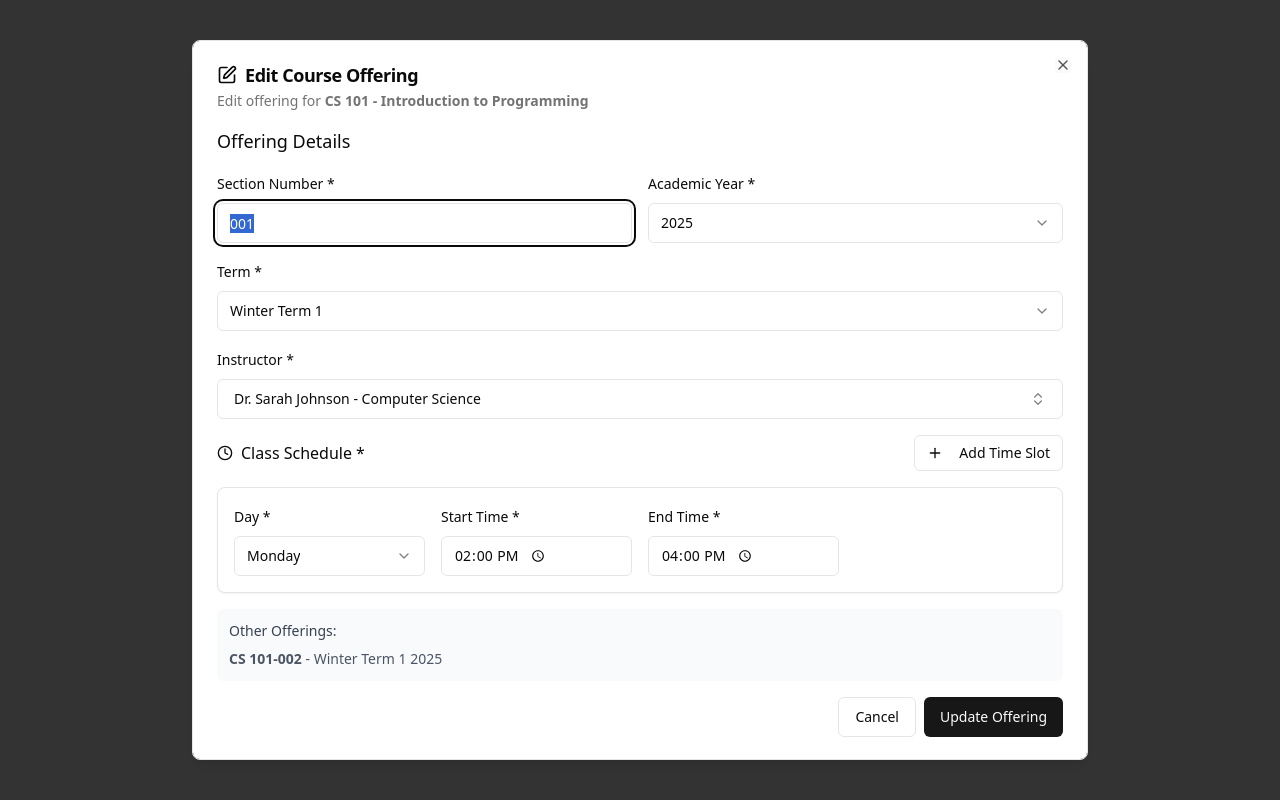
EditOfferingModal › validates section format
This screenshot has width=1280, height=800.
Replace the text in the field showing "001" with "invalid": (424, 223) [217, 203, 632, 243]
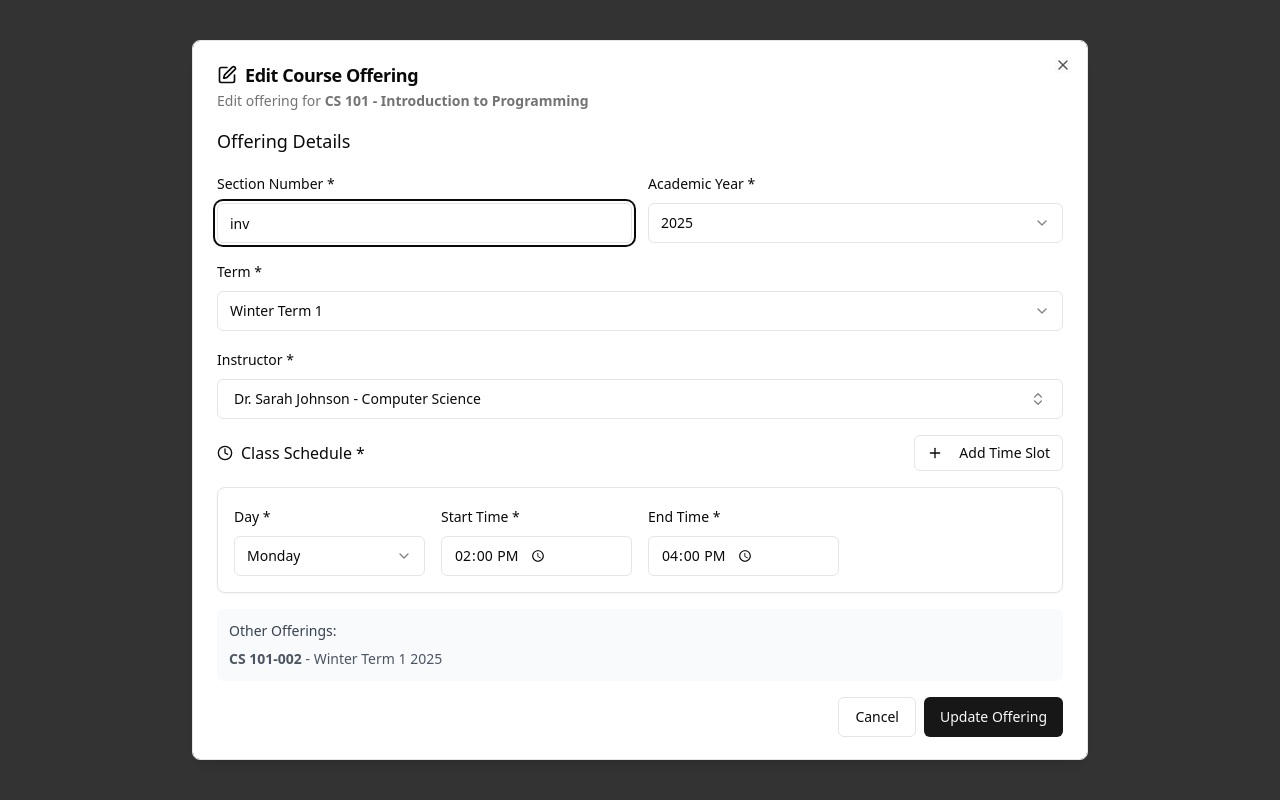
Press Tab
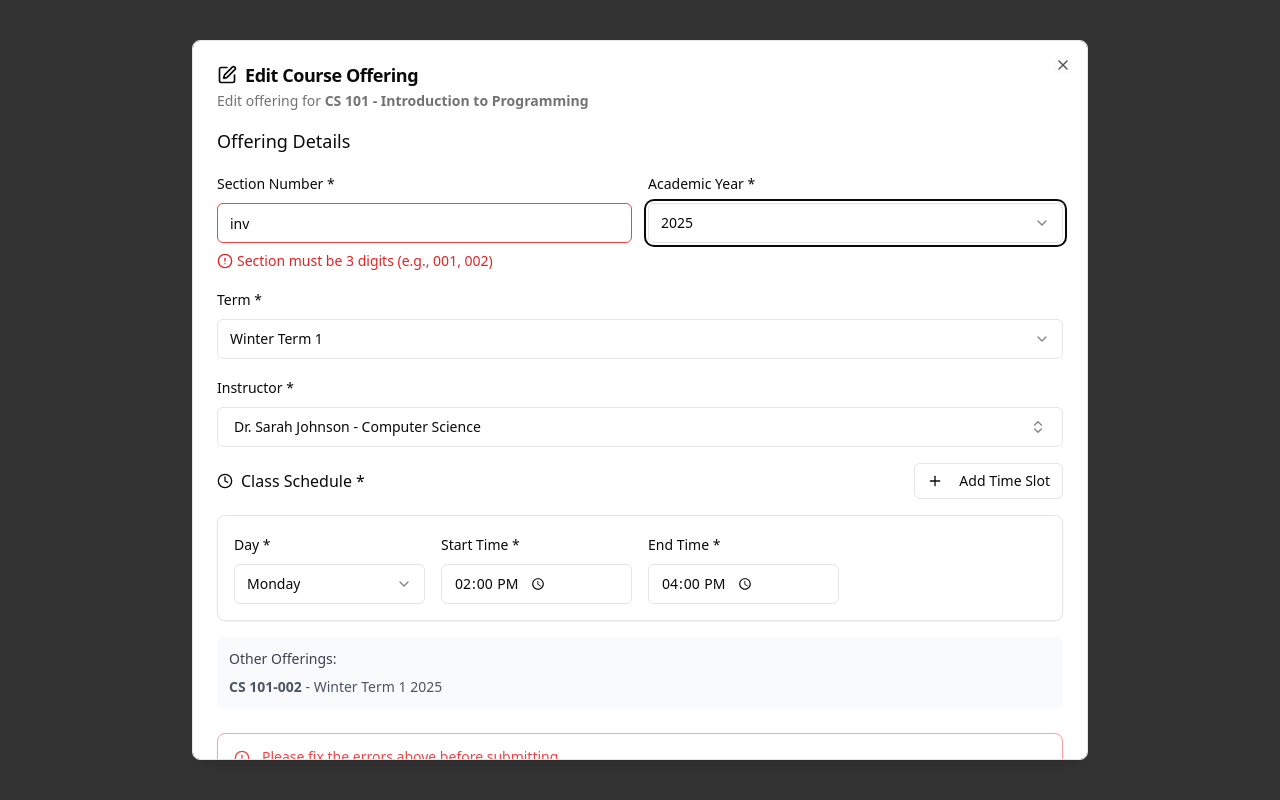
expect the text "Section must be 3 digits (e.g., 001, 002)" is shown: met, box [217, 251, 493, 270]
